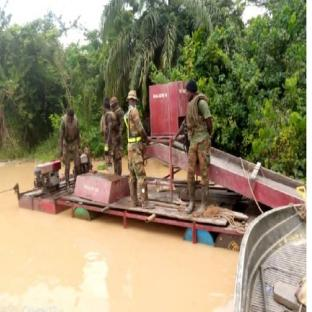ProcessingEquipment: (18, 79, 305, 249), (143, 78, 303, 209), (31, 158, 70, 195)
